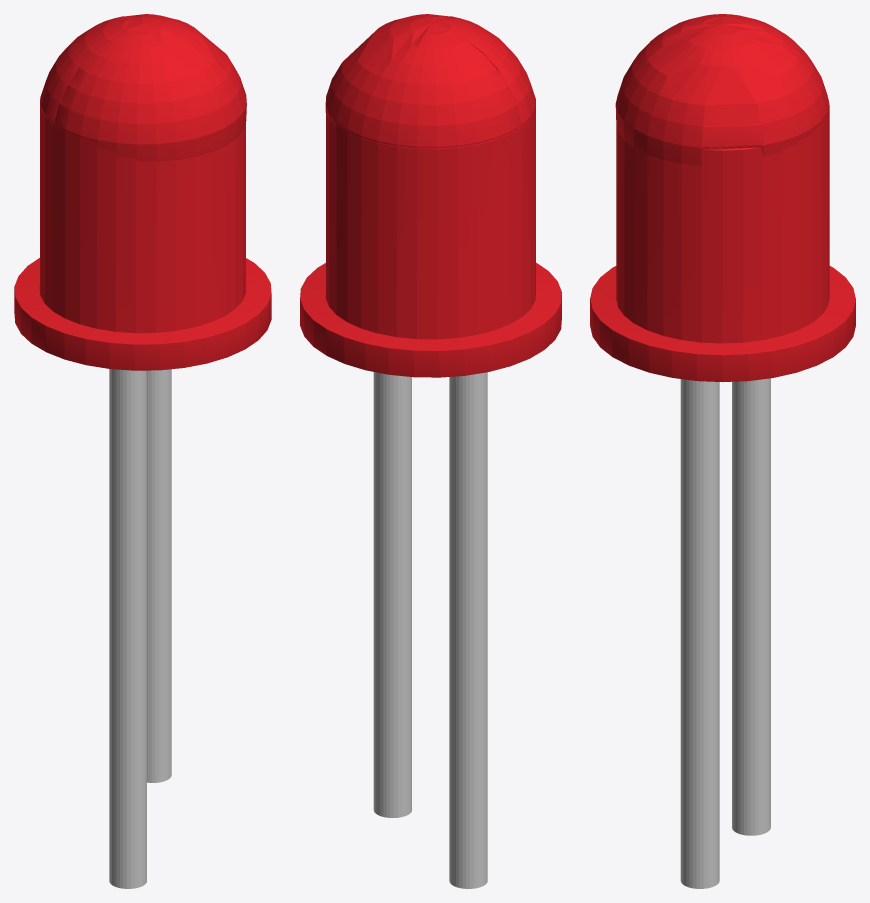
File: led.fbx
The picture shows the model from 3 angles, left to right: view 1: azimuth 30°, elevation 25°; view 2: azimuth 150°, elevation 25°; view 3: azimuth 270°, elevation 25°; orthographic projection. The views are drawn at different scales.
Visible parts, largest first — view 1: top, anode, cathode; view 2: top, anode, cathode; view 3: top, anode, cathode.
Boxes of the visible parts, <box> form: top: <box>14,14,271,370</box>; anode: <box>109,369,146,888</box>; cathode: <box>147,369,171,782</box>; top: <box>300,14,561,377</box>; anode: <box>449,372,487,888</box>; cathode: <box>373,372,411,817</box>; top: <box>590,14,855,381</box>; anode: <box>680,379,719,888</box>; cathode: <box>732,378,770,835</box>.
Bounding box in the file's own units: 249 × 900 × 249.
